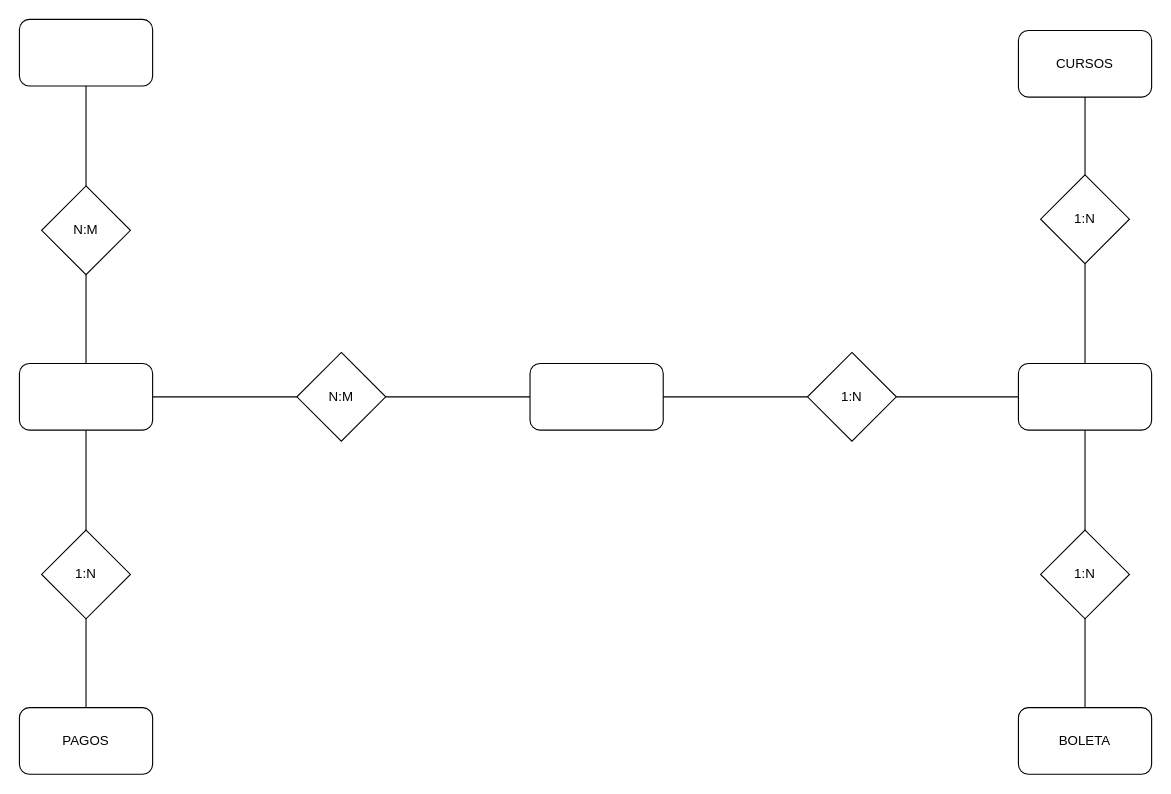
This 1171x794 diagram has some shape labels left out. The shapes that lost their labels are listed below. From the top down, each one's centre as x and y in pixels, then its label:
At pixel 85 52: "NOTAS".
At pixel 85 396: "ALUMNOS".
At pixel 596 396: "GRADO".
At pixel 1084 396: "PROFESOR".
